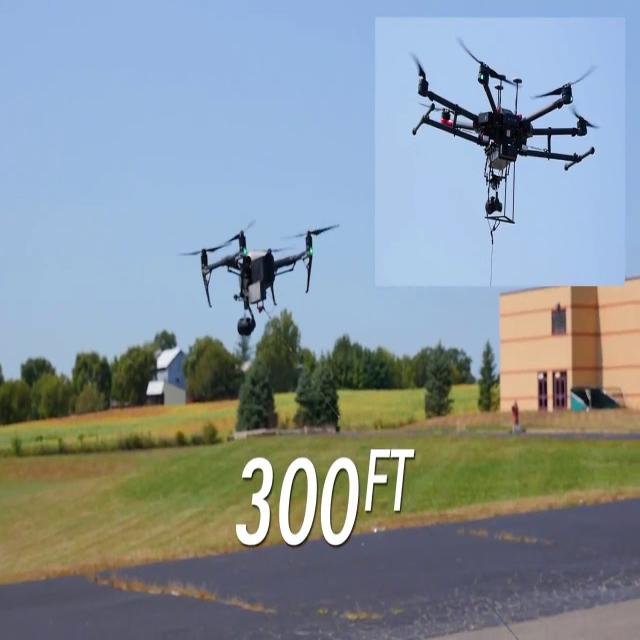drone: (400, 19, 602, 194), (189, 220, 339, 316)
